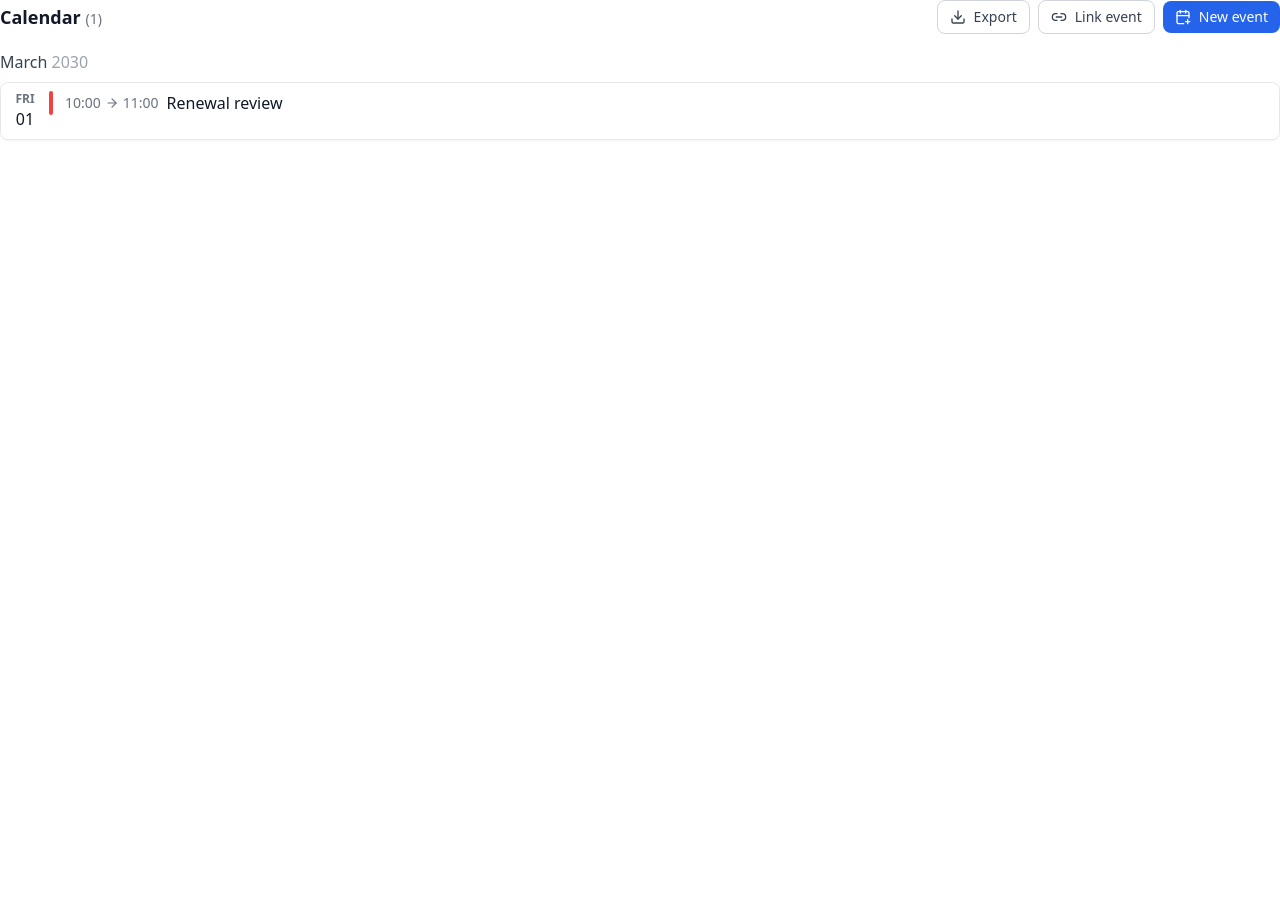
Scenario: CalendarEventsCard › opens event details for shared events
Click the text "Renewal review" at (225, 103), box [167,92,282,114]
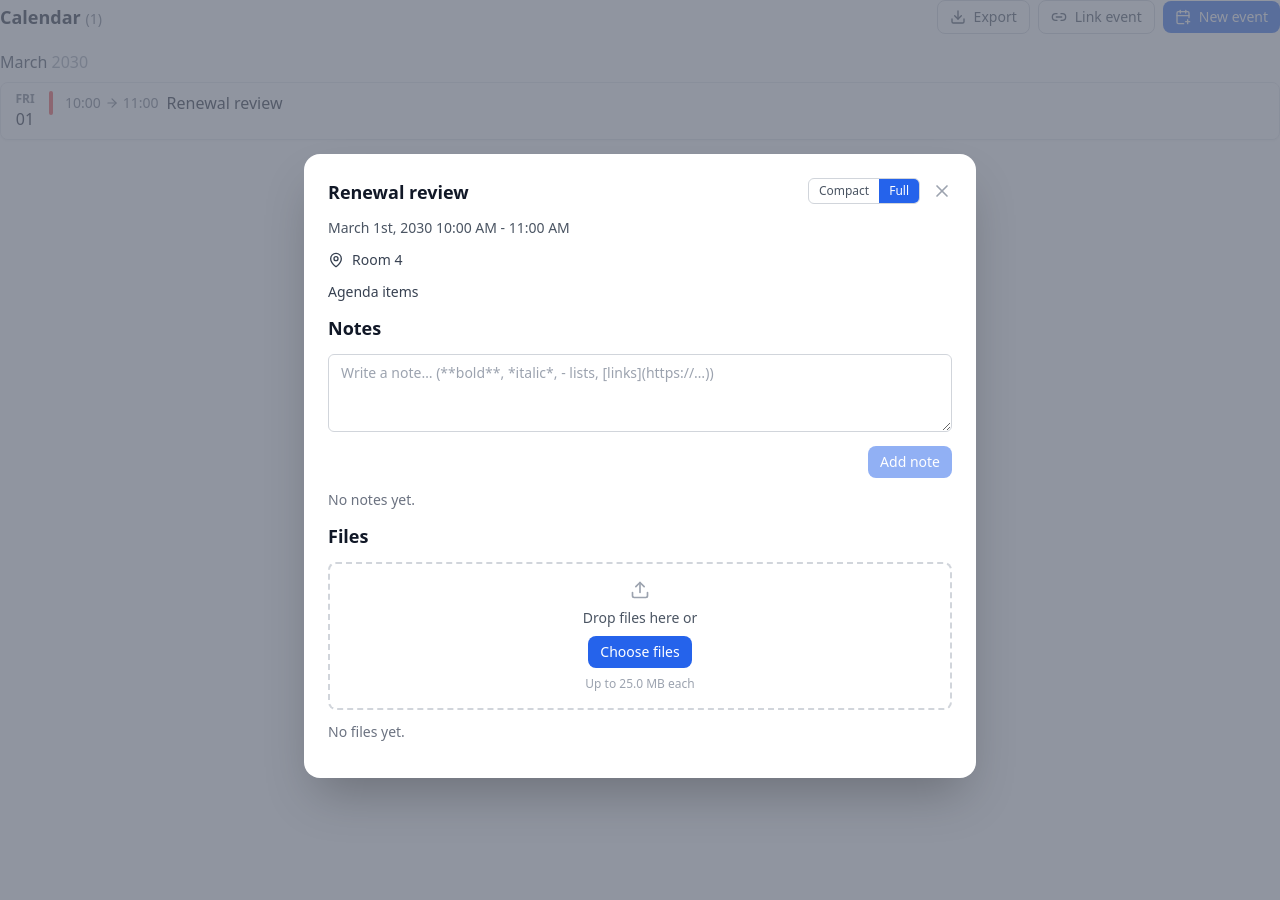
Expected: the text "Room 4" is shown, [328,250,402,269]
Expected: the text "Agenda items" is shown, [328,282,419,301]
